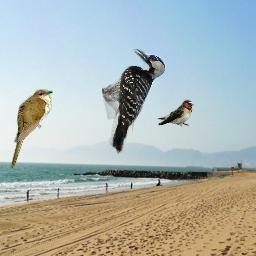Cuckoo: (10, 89, 53, 169)
Swallow: (157, 99, 195, 127)
Woodpecker: (102, 49, 166, 154)
